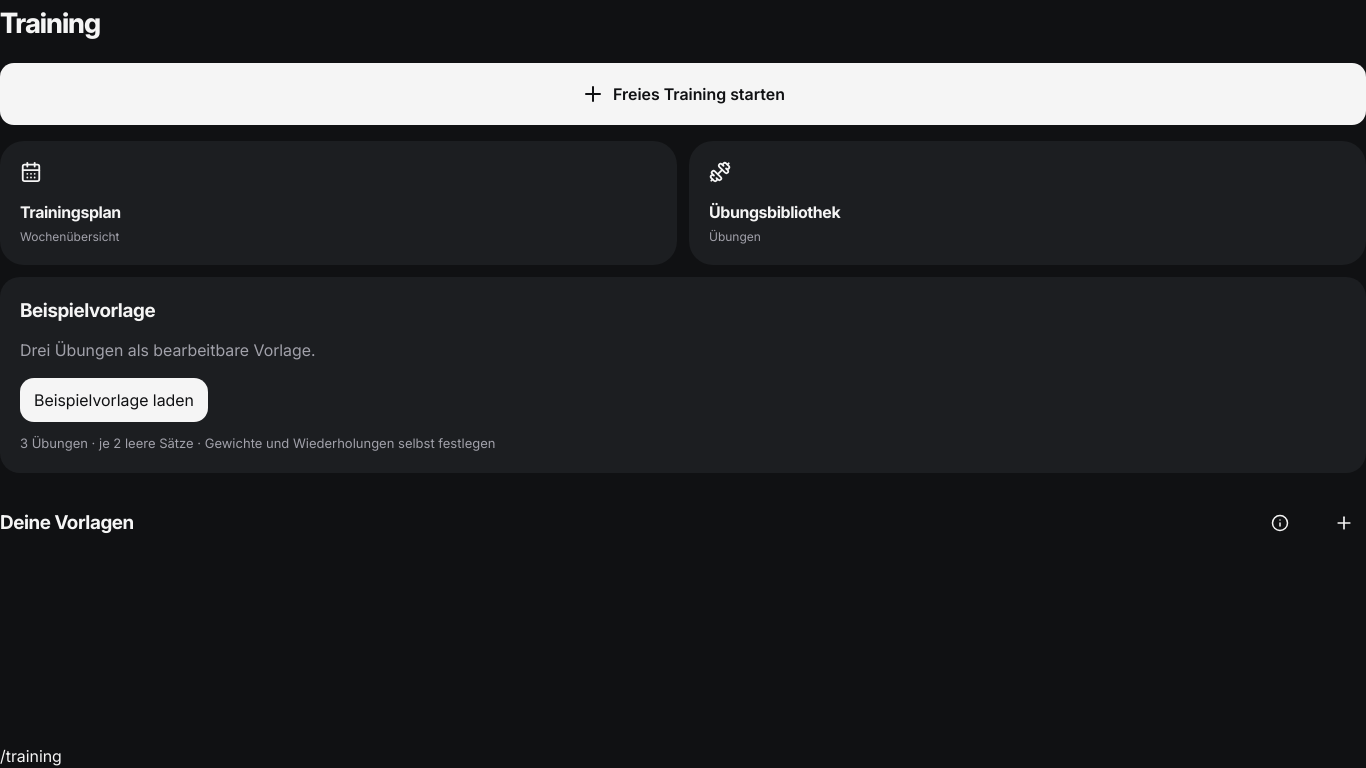
Test case: provides a library shortcut and a click-accessible explanation
The image size is (1366, 768).
Click the heading named "Information zu vorherigen Satzwerten": point(1280, 523) [1271,514,1289,532]
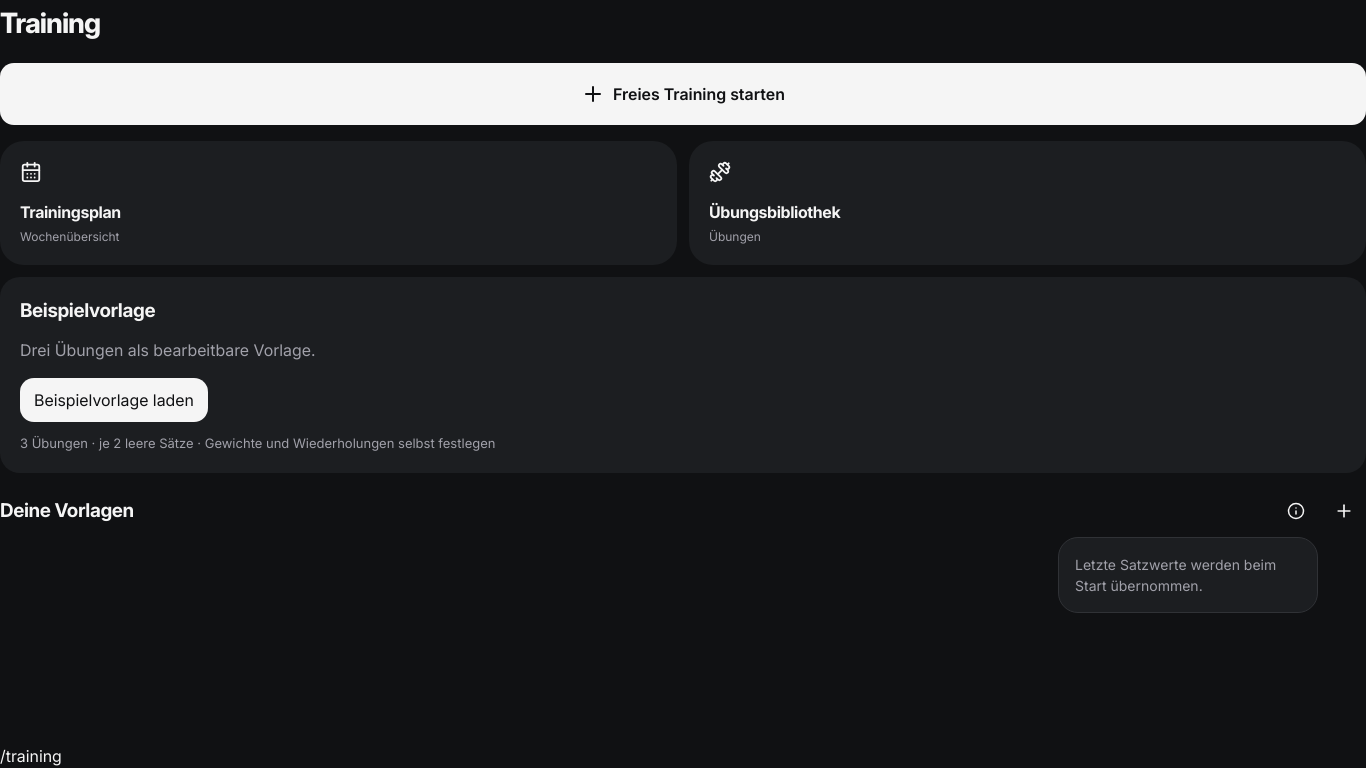
Expected: the tooltip shows "Letzte Satzwerte", [1075,556,1276,594]
